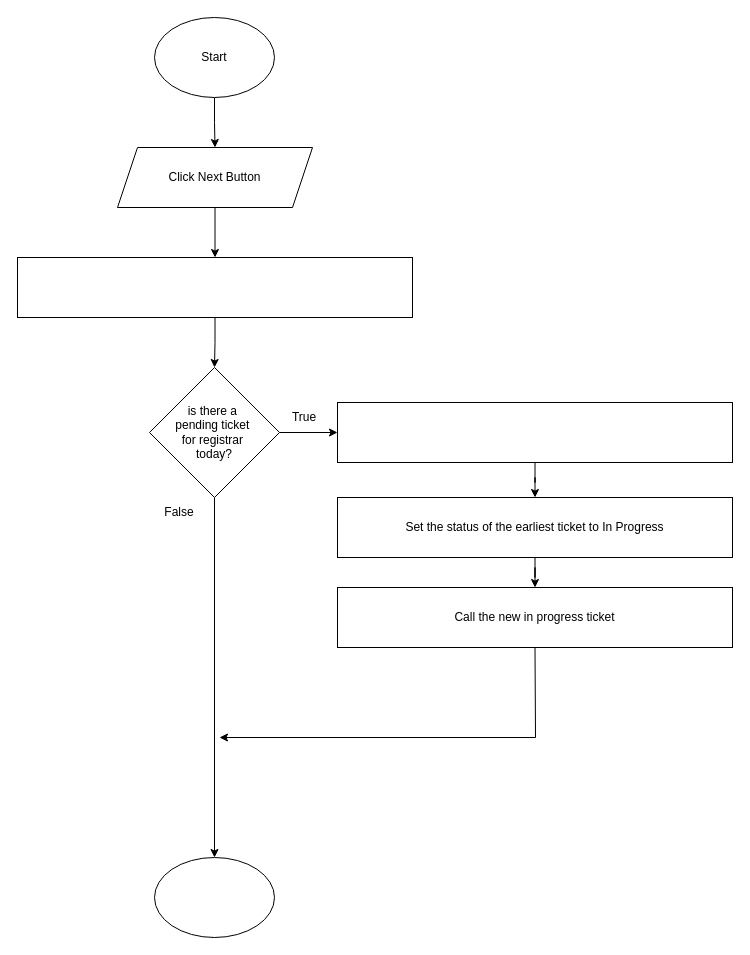
This 750x955 diagram has some shape labels left out. Here are the shapes that lost their labels. From the top down, the centre of each, then its label:
At point 214,287: "Check if there is a pending ticket for registrar today".
At point 534,432: "Get the earliest pending ticket for registrar today".
At point 214,897: "End".
